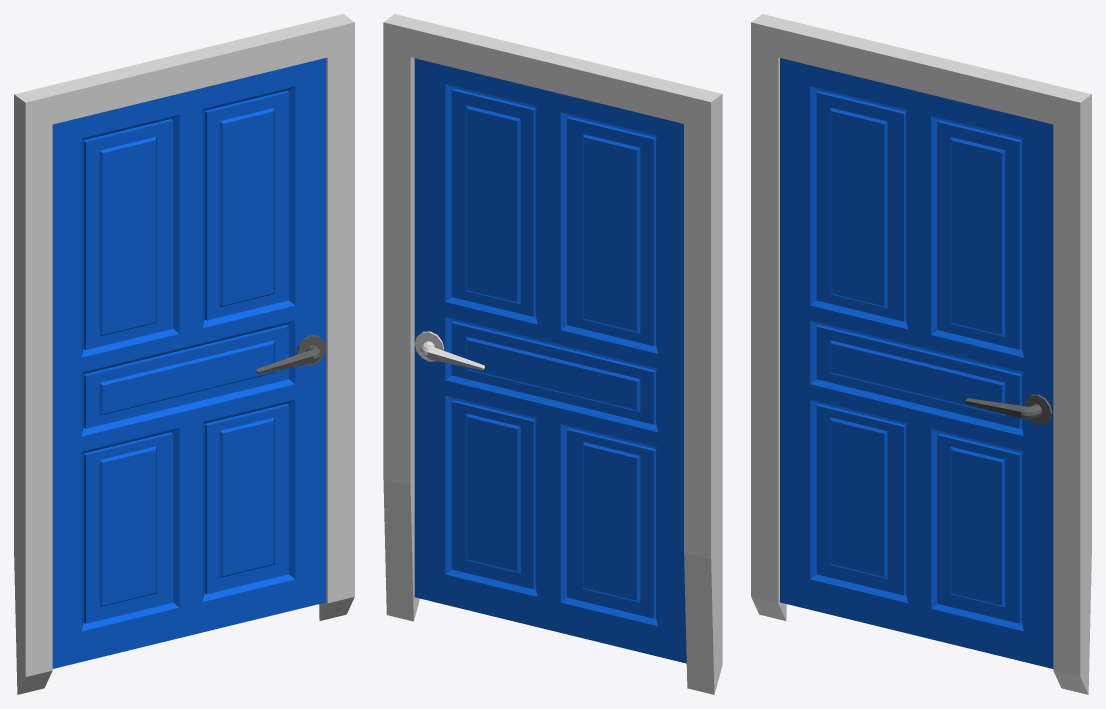
Rendered from thedoor.fbx.
The picture shows the model from 3 angles, left to right: view 1: azimuth 30°, elevation 25°; view 2: azimuth 150°, elevation 25°; view 3: azimuth 330°, elevation 25°; orthographic projection.
Parts seen in each view (by area): view 1: Door, Door Frame, Door Handle.001; view 2: Door, Door Frame, Door Handle; view 3: Door, Door Frame, Door Handle.001.
Part boxes in pixels (x1=…): Door: x1=52, y1=58, x2=325, y2=668; Door Frame: x1=14, y1=14, x2=354, y2=694; Door Handle.001: x1=255, y1=335, x2=326, y2=374; Door: x1=414, y1=58, x2=686, y2=663; Door Frame: x1=383, y1=14, x2=722, y2=694; Door Handle: x1=414, y1=331, x2=484, y2=370; Door: x1=780, y1=58, x2=1053, y2=668; Door Frame: x1=751, y1=14, x2=1091, y2=694; Door Handle.001: x1=965, y1=394, x2=1052, y2=424.
Size of the model in its own units: 484 by 840 by 69.17.
